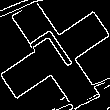L_SE: (28, 25, 82, 85)
